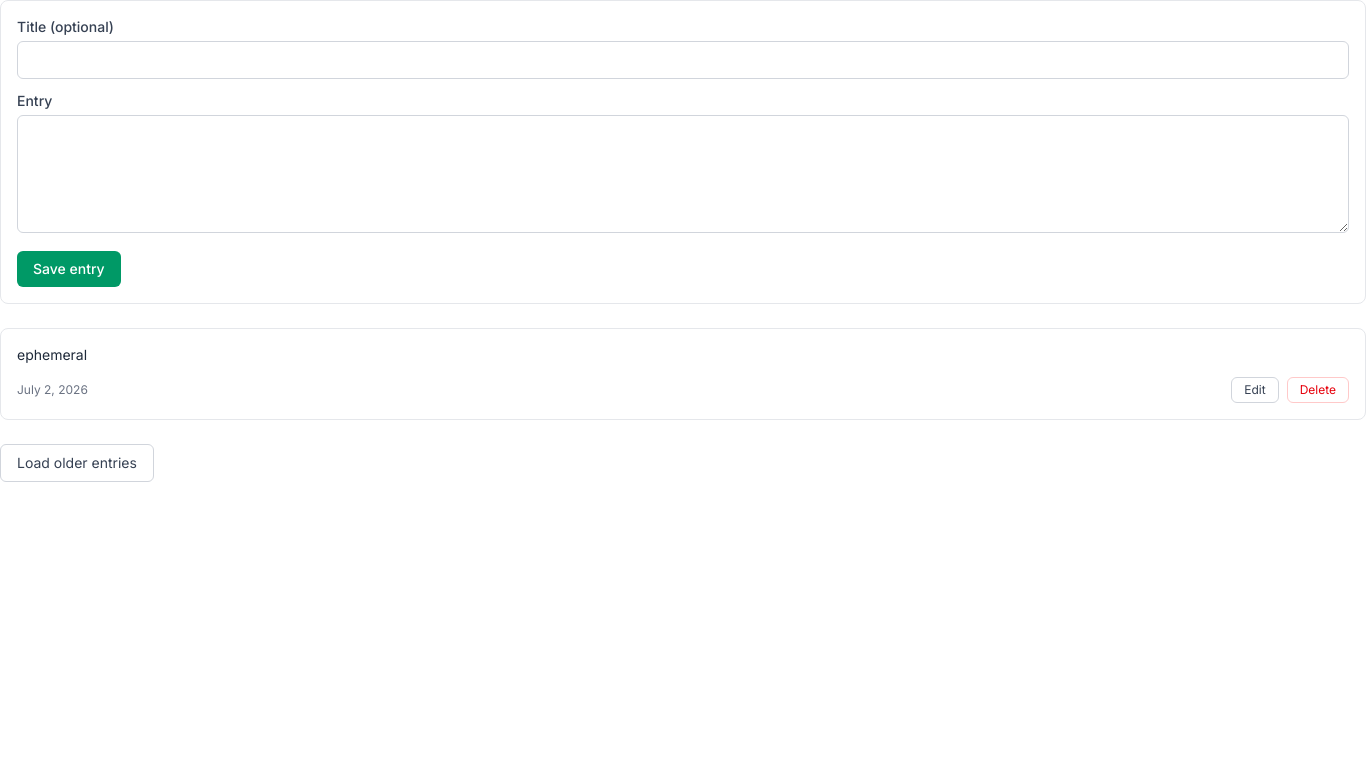
Scenario: FEAT-H011 — JournalPanel (STORY-1..3) › delete asks through ConfirmModal and only removes on confirm (STORY-3)
Expected: the text "ephemeral" is shown, [17,346,87,363]
Click the button "Delete": (1318, 390) [1287,377,1349,403]
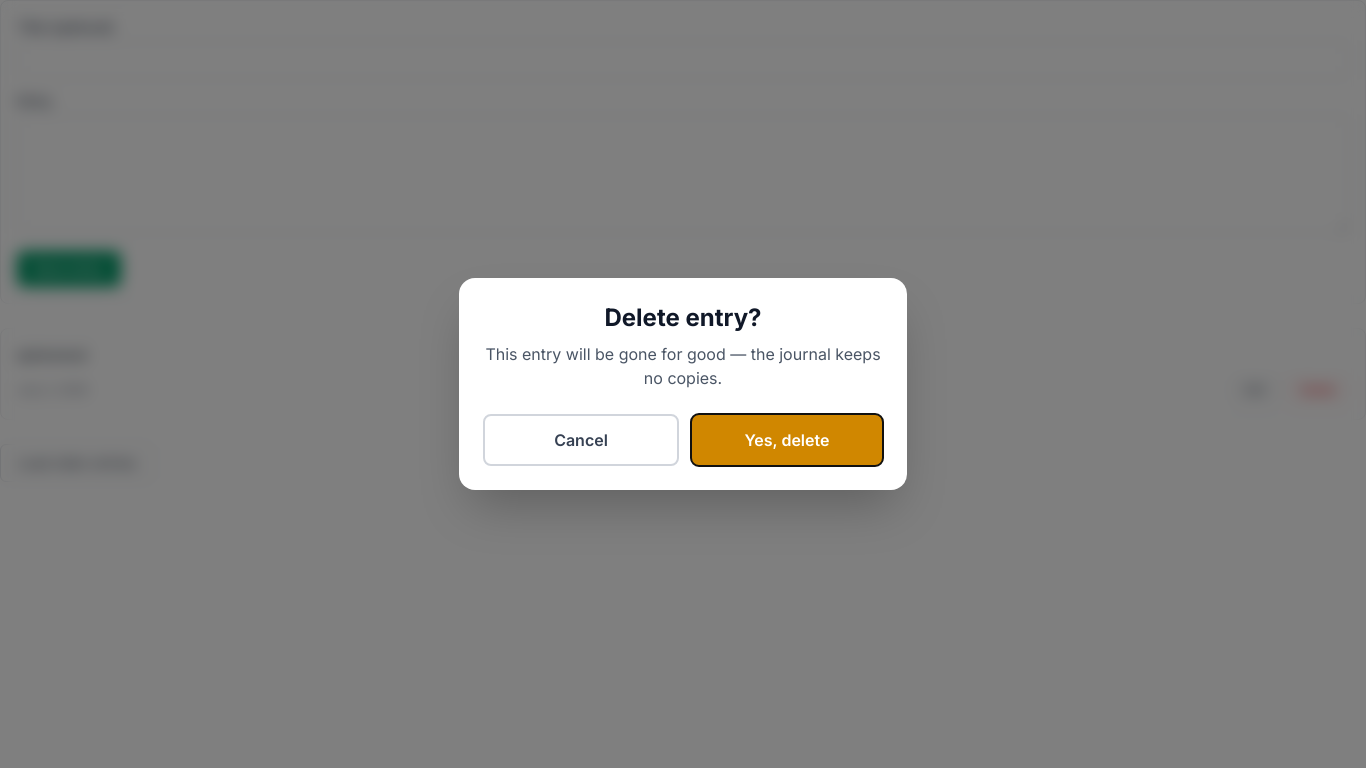
Click the button "Yes, delete": (787, 440) [691,414,883,466]
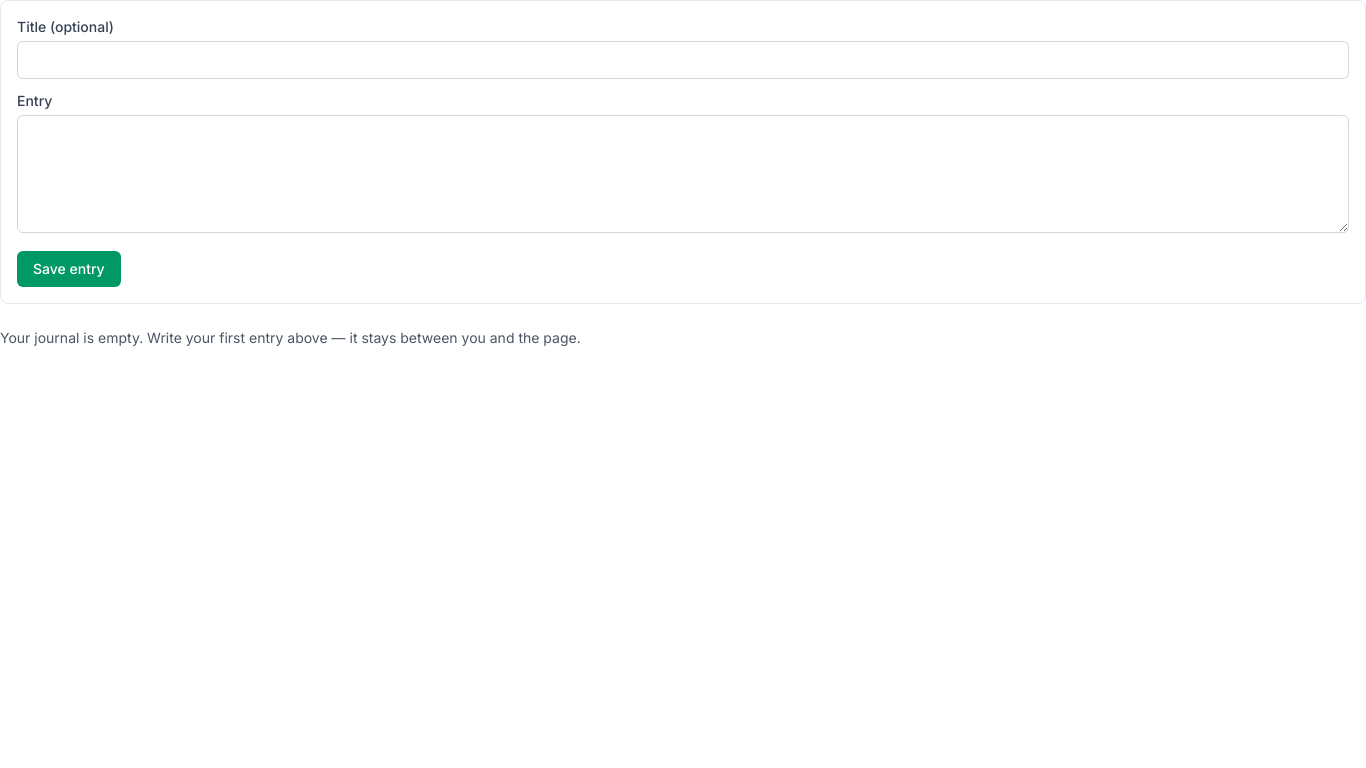
Now the text with test id "journal-empty" is shown, box [0,329,581,346]
